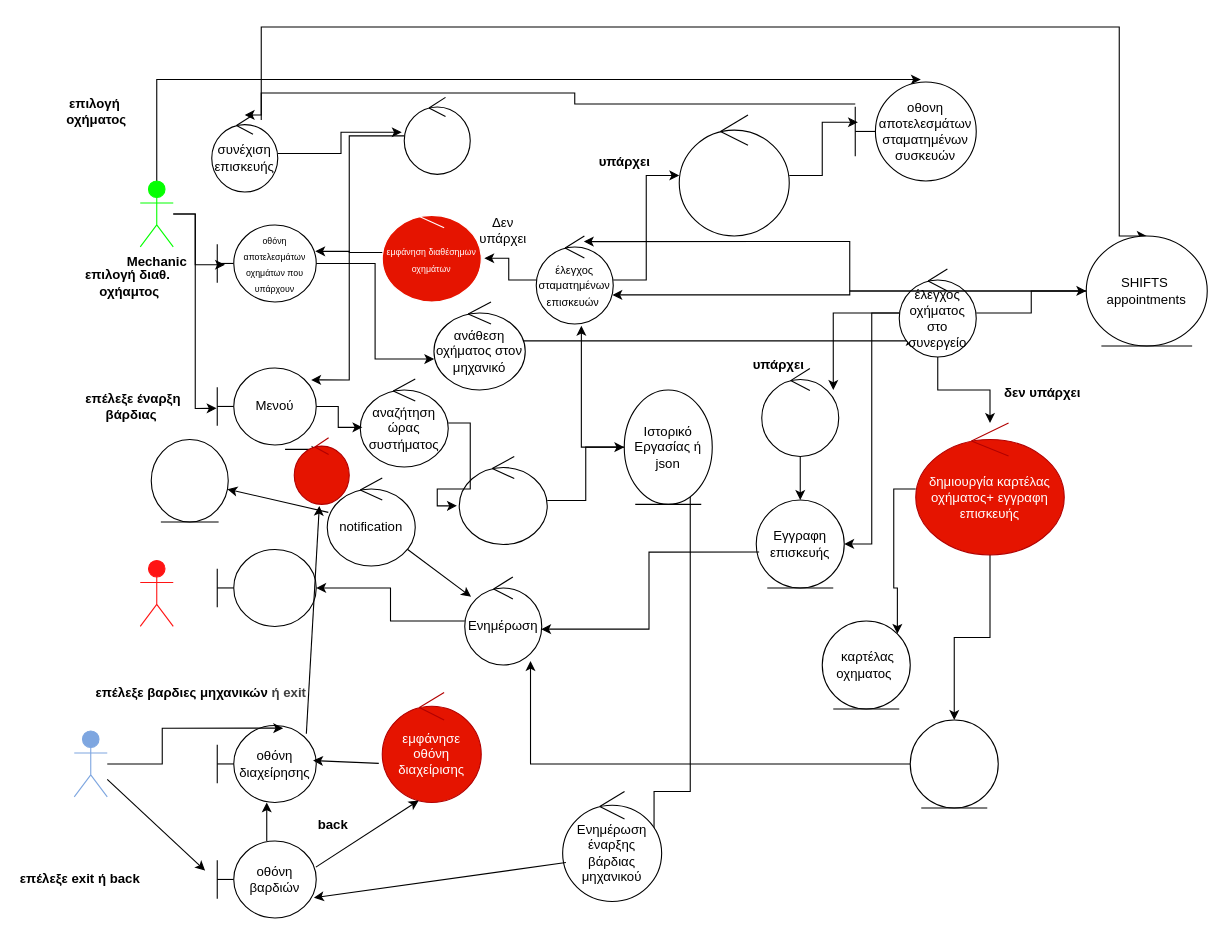
The diagram is 1227 pixels wide and 948 high, and some of its shapes have lost their labels. The shapes that lost their labels are listed below. From the top down, each one's centre as x and y in pixels, then its label:
At [436,135]: "επιστροφή μενού".
At [733,175]: "εμφάνιση ύπαρξης σταματημένης επισκευής".
At [800,412]: "νέα εγγραφή επισκευής".
At [189,480]: "notifications list".
At [321,470]: "exit".
At [502,499]: "αποθήκευση ώρας έναρξης".
At [156,592]: "Costumer".
At [266,587]: "οθόνη ενημέρωσης έναρξη επισκευής".
At [90,763]: "Admin".
At [953,763]: "δημιουργία καρτέλας επισκευής".
